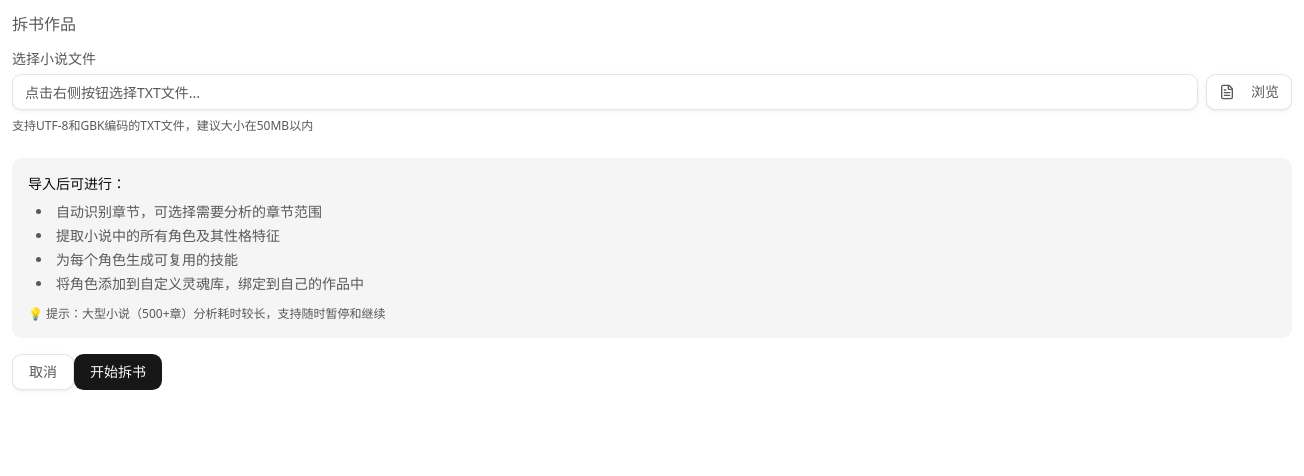
Test: BookAnalysisInputDialog › clears the error after a successful file selection
Click the button "开始拆书" at (118, 372), box 74,354 -> 162,390
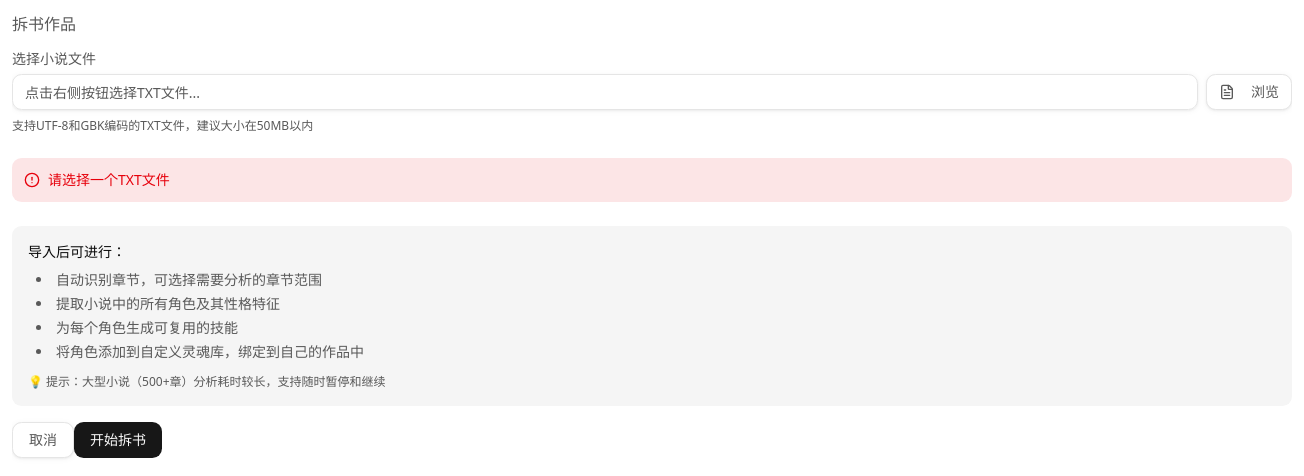
Expected: the text "请选择一个TXT文件" is shown, 48,170 -> 170,190
Click the button "浏览" at (1249, 92), box 1206,74 -> 1292,110
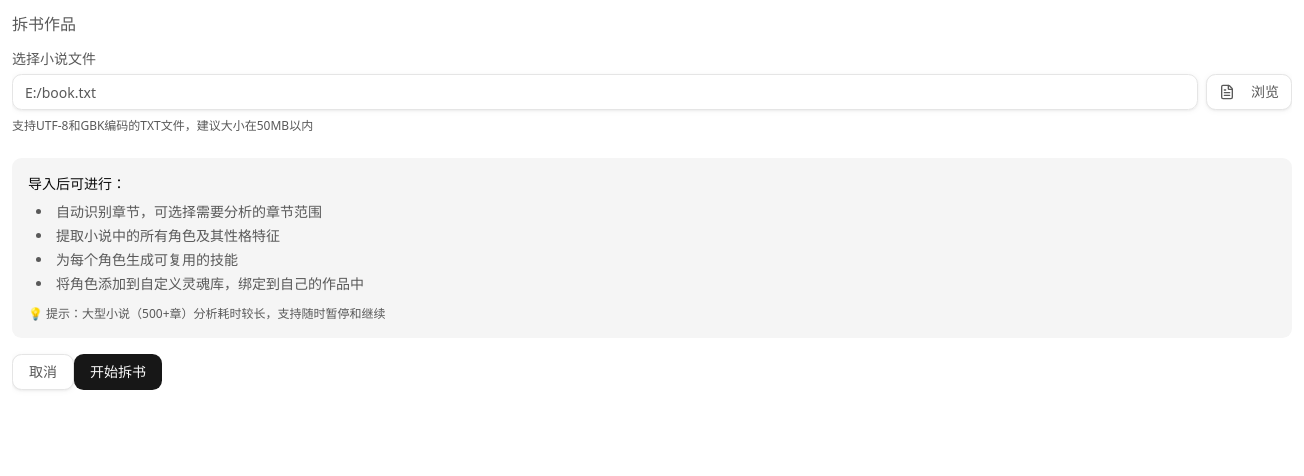
Expected: the text "请选择一个TXT文件" is gone
